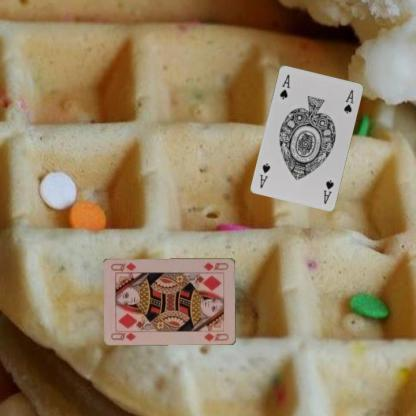As: (277, 72, 291, 100), (321, 177, 335, 204)
Qd: (108, 328, 138, 342), (201, 260, 230, 272)
